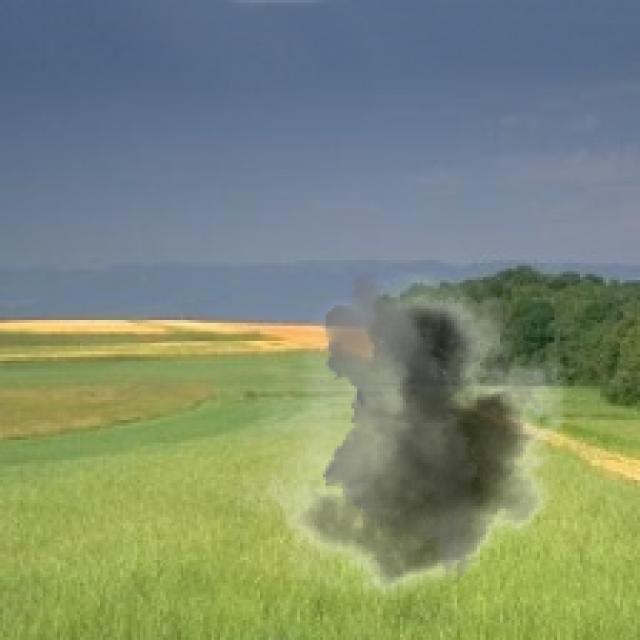smoke: (228, 272, 586, 614)
